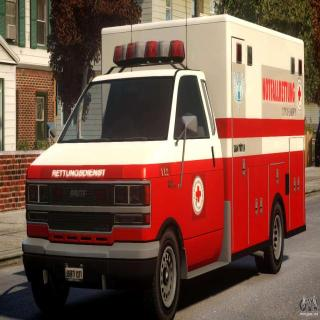Ambulance: (19, 4, 307, 316)
